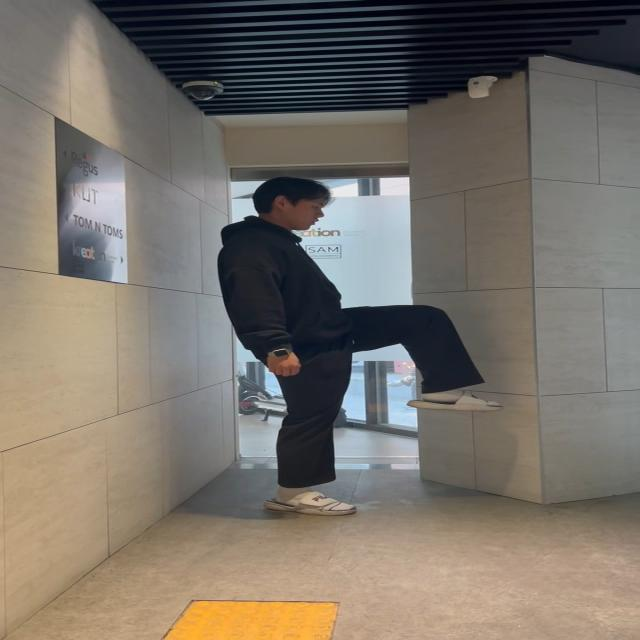knee: (338, 282, 518, 437)
